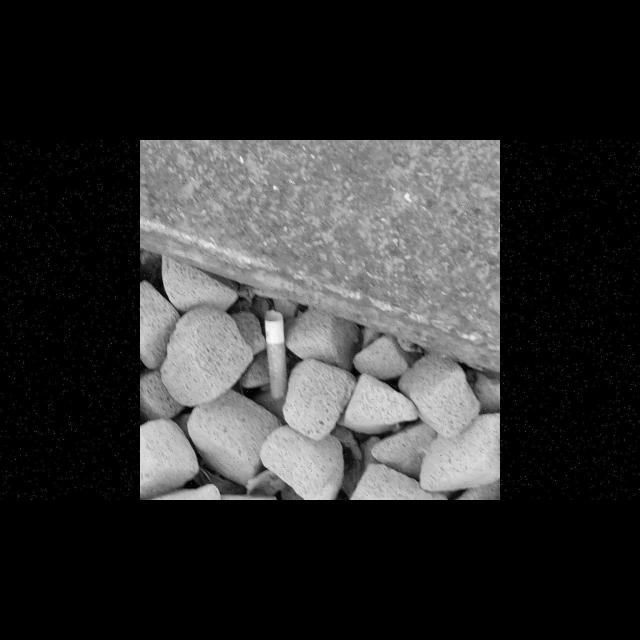cigarette: (264, 309, 288, 400)
